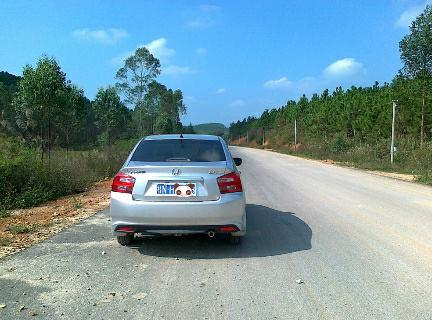本田-歌诗图: (106, 132, 254, 252)
